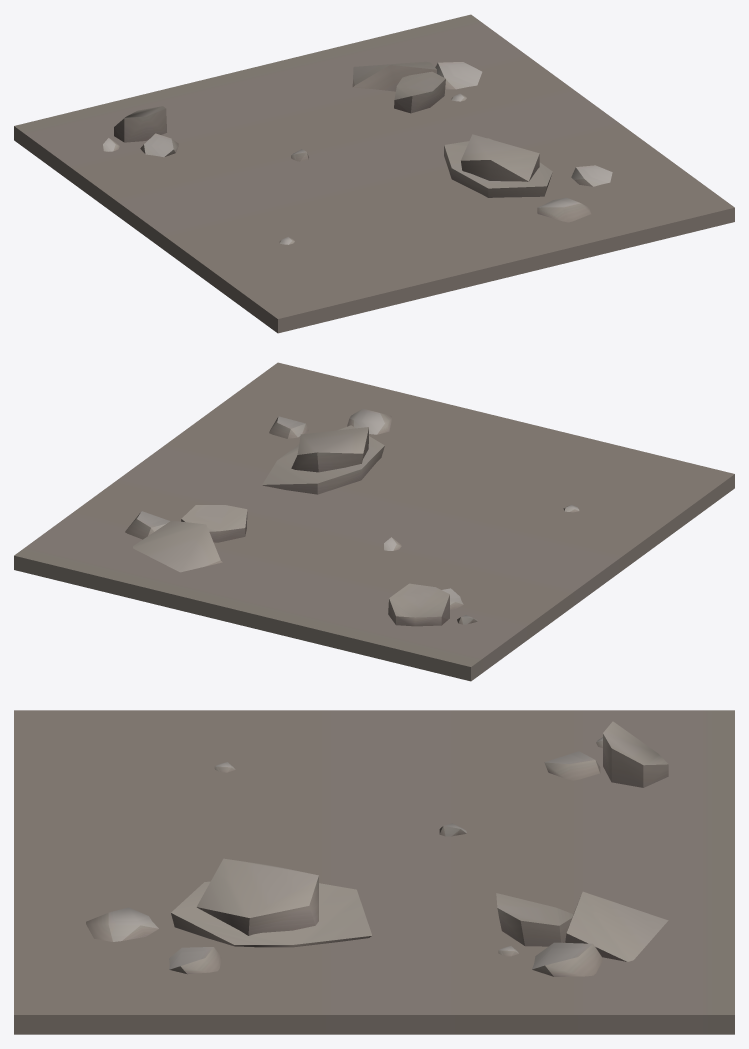
The model's file is floor_dirt_large_rocky_gltf.glb.
3 renders of one model, top to bottom at view 1: azimuth 30°, elevation 25°; view 2: azimuth 150°, elevation 25°; view 3: azimuth 270°, elevation 25°, orthographic. The views are drawn at different scales.
Parts seen in each view (by area): view 1: floor_dirt_large_rocky; view 2: floor_dirt_large_rocky; view 3: floor_dirt_large_rocky.
Boxes of the visible parts, box(x1,y1,x2,y2) form: floor_dirt_large_rocky: box(14, 14, 734, 333); floor_dirt_large_rocky: box(14, 362, 734, 681); floor_dirt_large_rocky: box(14, 710, 734, 1034).
Bounding box in the file's own units: 4 × 0.3926 × 4.
1 material, 1 textured.
